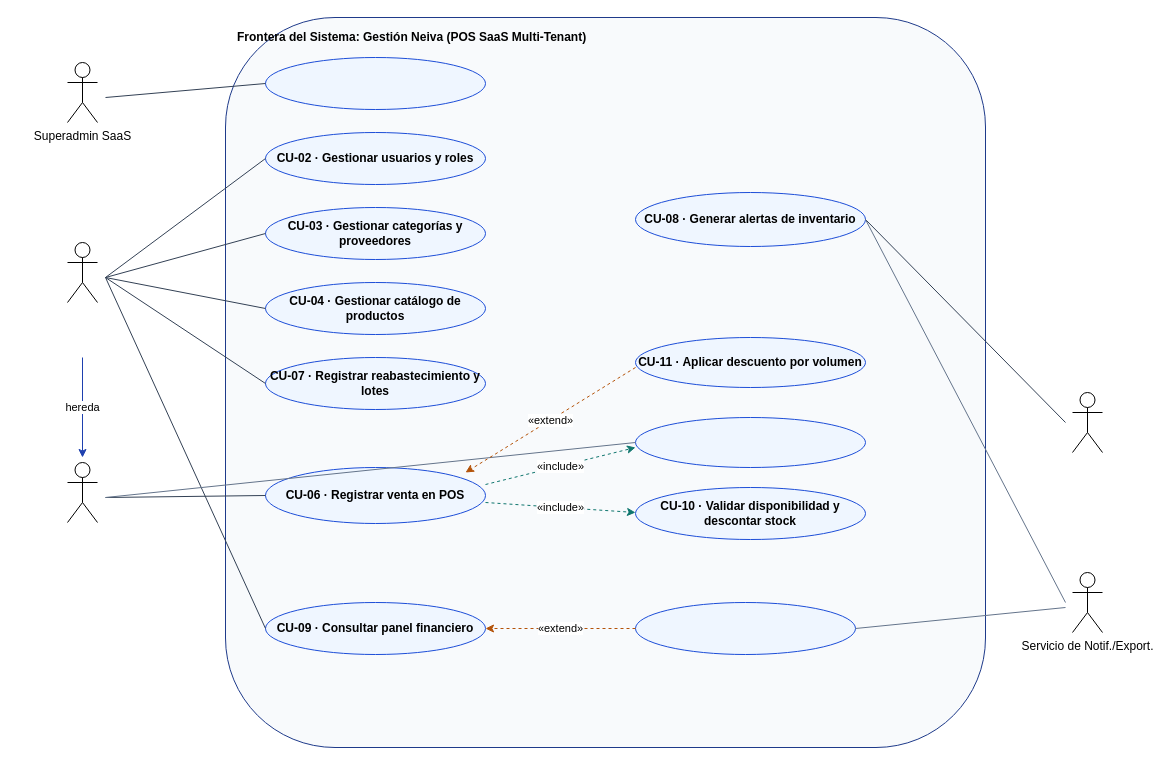
Image size: 1171x765. Some labels were removed from this diagram. Each missing label, with the centre of its shape:
Administrador de Tienda: the point at 82,272
Cajero / Ayudante: the point at 82,492
CU-01 · Gestionar tiendas: the point at 375,83
CU-05 · Consultar catálogo en POS: the point at 750,442
CU-12 · Exportar cuadre de caja: the point at 745,628
Planificador Automático: the point at 1087,422
